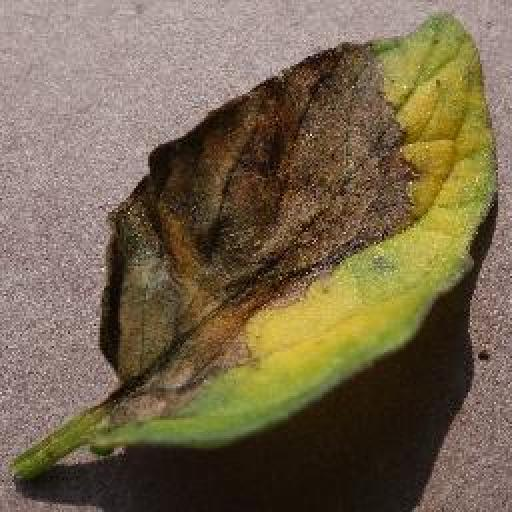Late Blight: (91, 5, 496, 452)
